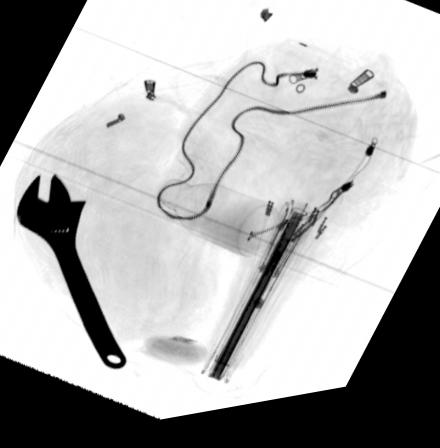Wrench: (14, 173, 126, 374)
